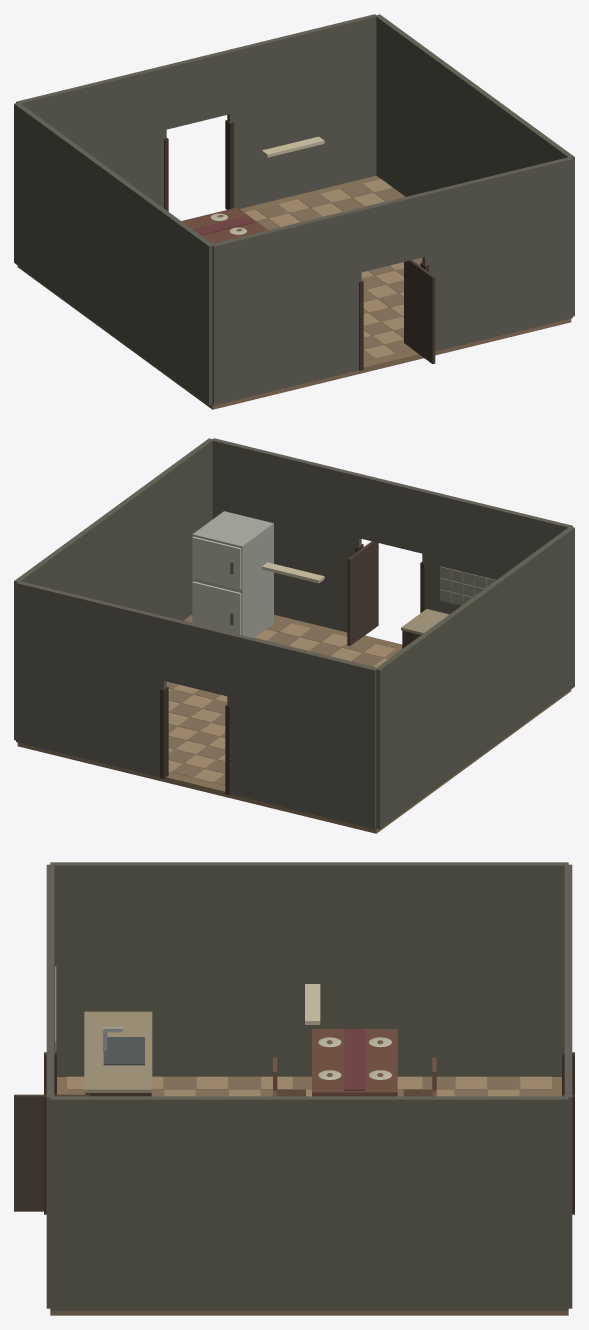
File: cocinaC2.obj
3 views of the same model, one above another, from view 1: azimuth 30°, elevation 25°; view 2: azimuth 150°, elevation 25°; view 3: azimuth 270°, elevation 25° (orthographic). The views are drawn at different scales.
Visible parts, largest first — view 1: cocinaCustom_obj_256, cocinaCustom_obj_263, cocinaCustom_obj_264, cocinaCustom_obj_259, cocinaCustom_obj_257, cocinaCustom_decor, cocinaCustom_obj_258, cocinaCustom_obj_265, cocinaCustom_obj_260, cocinaCustom_obj_0; view 2: cocinaCustom_obj_256, cocinaCustom_obj_258, cocinaCustom_obj_259, cocinaCustom_decor, cocinaCustom_obj_257, cocinaCustom_obj_264, cocinaCustom_obj_263, cocinaCustom_obj_303, cocinaCustom_obj_260, cocinaCustom_obj_265, cocinaCustom_obj_0; view 3: cocinaCustom_obj_257, cocinaCustom_obj_256, cocinaCustom_decor, cocinaCustom_obj_0, cocinaCustom_obj_259, cocinaCustom_obj_264, cocinaCustom_obj_258, cocinaCustom_obj_263.
Boxes of the visible parts, x1,y1,x2,y2 form: cocinaCustom_obj_256: [14, 103, 212, 405]; cocinaCustom_obj_263: [211, 208, 361, 405]; cocinaCustom_obj_264: [422, 157, 572, 351]; cocinaCustom_obj_259: [227, 14, 376, 208]; cocinaCustom_obj_257: [375, 14, 574, 316]; cocinaCustom_decor: [164, 120, 435, 370]; cocinaCustom_obj_258: [16, 65, 166, 207]; cocinaCustom_obj_265: [359, 193, 424, 272]; cocinaCustom_obj_260: [164, 50, 229, 129]; cocinaCustom_obj_0: [17, 175, 571, 409]; cocinaCustom_obj_256: [375, 527, 574, 829]; cocinaCustom_obj_258: [227, 632, 376, 829]; cocinaCustom_obj_259: [16, 581, 166, 776]; cocinaCustom_decor: [160, 536, 496, 794]; cocinaCustom_obj_257: [14, 438, 213, 740]; cocinaCustom_obj_264: [212, 438, 361, 632]; cocinaCustom_obj_263: [422, 489, 572, 614]; cocinaCustom_obj_303: [192, 511, 273, 637]; cocinaCustom_obj_260: [164, 617, 229, 696]; cocinaCustom_obj_265: [359, 474, 424, 553]; cocinaCustom_obj_0: [17, 614, 571, 833]; cocinaCustom_obj_257: [50, 1096, 568, 1310]; cocinaCustom_obj_256: [50, 862, 568, 1076]; cocinaCustom_decor: [14, 966, 574, 1214]; cocinaCustom_obj_0: [50, 1077, 568, 1315]; cocinaCustom_obj_259: [564, 1001, 572, 1308]; cocinaCustom_obj_264: [46, 1001, 54, 1308]; cocinaCustom_obj_258: [564, 864, 572, 960]; cocinaCustom_obj_263: [46, 864, 54, 960].
Size of the model in its own units: 17.34 by 7.44 by 17.32.
